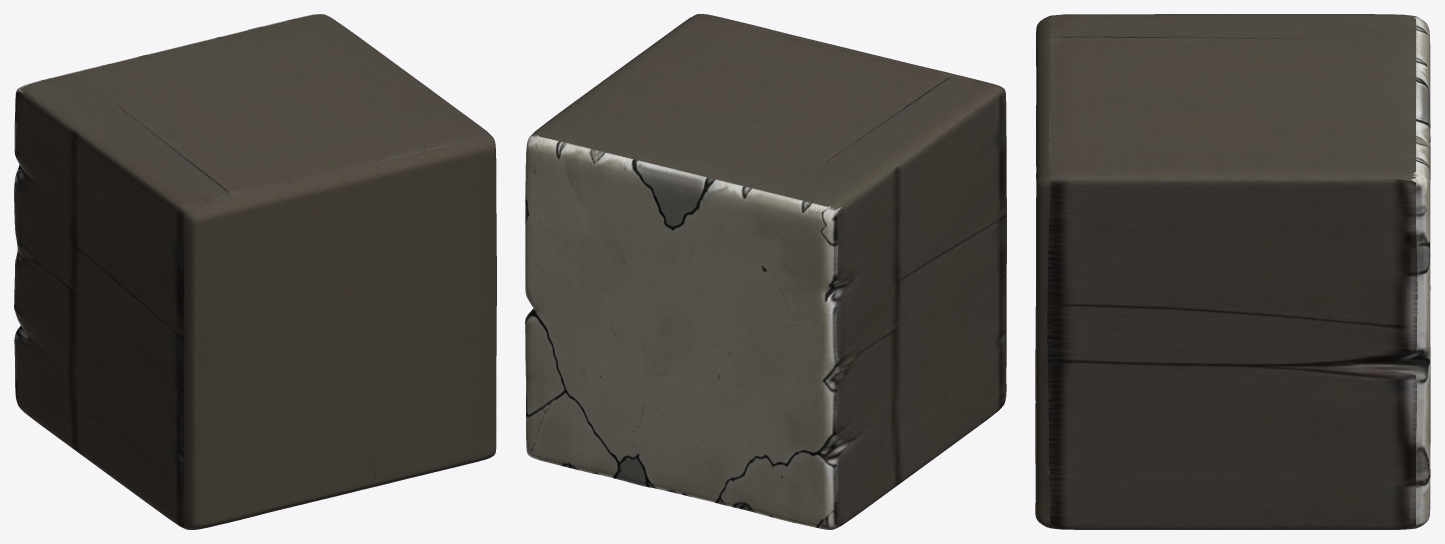
File: wall-plaster-damaged.glb
3 views of the same model, side by side, from view 1: azimuth 30°, elevation 25°; view 2: azimuth 150°, elevation 25°; view 3: azimuth 270°, elevation 25° (orthographic). The views are drawn at different scales.
Visible parts, largest first — view 1: tmp_45maksi.ply; view 2: tmp_45maksi.ply; view 3: tmp_45maksi.ply.
Boxes of the visible parts, <box> form: tmp_45maksi.ply: <box>14,14,496,529</box>; tmp_45maksi.ply: <box>525,14,1006,529</box>; tmp_45maksi.ply: <box>1035,14,1430,529</box>.
Bounding box in the file's own units: 1 × 1 × 1.
Materials: 1 (1 with a texture image).
